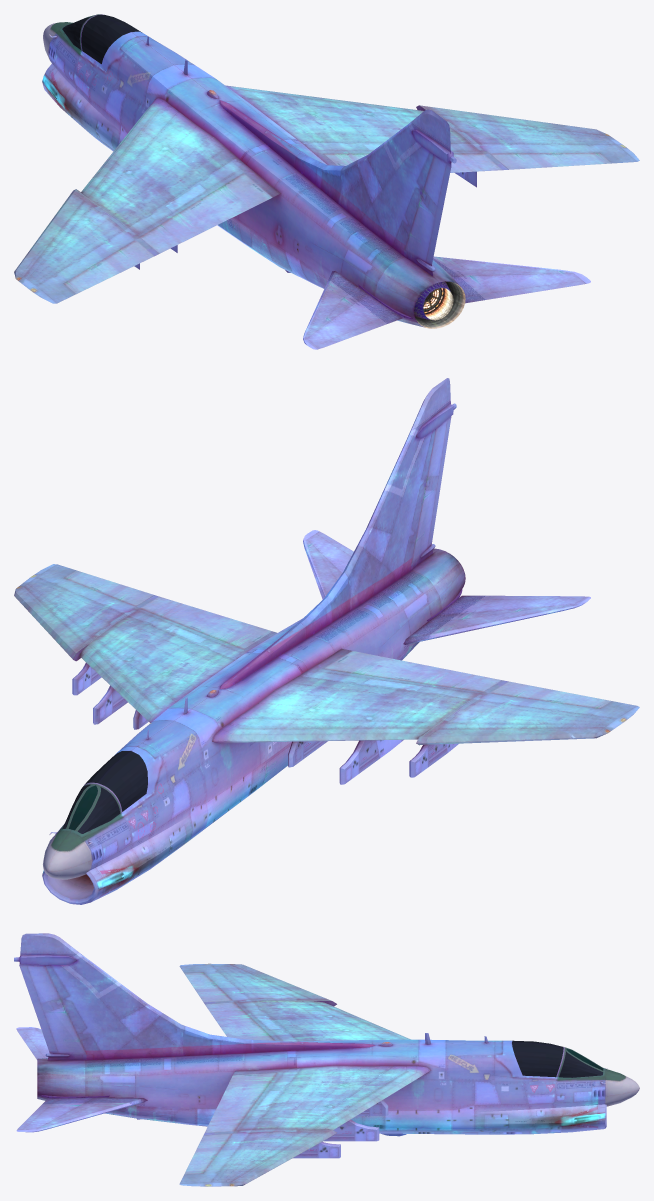
3 renders of one model, top to bottom at view 1: azimuth 30°, elevation 25°; view 2: azimuth 150°, elevation 25°; view 3: azimuth 270°, elevation 25°, orthographic. The views are drawn at different scales.
Parts seen in each view (by area): view 1: A-7_LOD0_default, A-7_ElevatorL01_default, A-7_ElevatorR01_default, A-7_FlapL01_default, A-7_RudderL01_default, A-7_AileronL01_default, A-7_AileronR01_default, A-7_Glass_Canopy01_default, A-7_VoletL01_default, A-7_EngineL01_default, A-7_FlapR01_default, A-7_VoletR01_default (+3 smaller); view 2: A-7_LOD0_default, A-7_ElevatorL01_default, A-7_FlapL01_default, A-7_FlapR01_default, A-7_VoletL02_default, A-7_VoletL01_default, A-7_RudderL01_default, A-7_Glass_Canopy01_default, A-7_ElevatorR01_default, A-7_Glass_default, A-7_VoletR02_default, A-7_AileronL01_default (+3 smaller); view 3: A-7_LOD0_default, A-7_RudderL01_default, A-7_ElevatorR01_default, A-7_FlapR01_default, A-7_Glass_Canopy01_default, A-7_FlapL01_default, A-7_VoletR02_default, A-7_VoletR01_default, A-7_AileronR01_default, A-7_Glass_default, A-7_AileronL01_default, A-7_Canopy01_default (+2 smaller).
Part boxes in pixels (bbox=[...]): A-7_LOD0_default: bbox=[14, 14, 639, 328]; A-7_ElevatorL01_default: bbox=[303, 271, 402, 349]; A-7_ElevatorR01_default: bbox=[433, 256, 590, 303]; A-7_FlapL01_default: bbox=[140, 173, 272, 253]; A-7_RudderL01_default: bbox=[405, 154, 451, 265]; A-7_AileronL01_default: bbox=[63, 240, 154, 294]; A-7_AileronR01_default: bbox=[490, 152, 611, 169]; A-7_Glass_Canopy01_default: bbox=[81, 15, 141, 63]; A-7_VoletL01_default: bbox=[14, 193, 83, 276]; A-7_EngineL01_default: bbox=[414, 281, 453, 320]; A-7_FlapR01_default: bbox=[324, 153, 501, 172]; A-7_VoletR01_default: bbox=[428, 106, 603, 135]; A-7_LOD0_default: bbox=[14, 378, 639, 904]; A-7_ElevatorL01_default: bbox=[403, 595, 590, 644]; A-7_FlapL01_default: bbox=[324, 651, 501, 692]; A-7_FlapR01_default: bbox=[140, 596, 271, 649]; A-7_VoletL02_default: bbox=[229, 728, 430, 742]; A-7_VoletL01_default: bbox=[425, 728, 603, 744]; A-7_RudderL01_default: bbox=[411, 417, 451, 562]; A-7_Glass_Canopy01_default: bbox=[85, 751, 147, 811]; A-7_ElevatorR01_default: bbox=[303, 530, 353, 599]; A-7_Glass_default: bbox=[62, 784, 119, 833]; A-7_VoletR02_default: bbox=[79, 645, 157, 721]; A-7_AileronL01_default: bbox=[490, 681, 611, 708]; A-7_LOD0_default: bbox=[14, 933, 639, 1186]; A-7_RudderL01_default: bbox=[19, 965, 85, 1054]; A-7_ElevatorR01_default: bbox=[16, 1097, 147, 1132]; A-7_FlapR01_default: bbox=[205, 1073, 276, 1132]; A-7_Glass_Canopy01_default: bbox=[512, 1040, 563, 1077]; A-7_FlapL01_default: bbox=[205, 1002, 274, 1040]; A-7_VoletR02_default: bbox=[314, 1071, 422, 1129]; A-7_VoletR01_default: bbox=[231, 1132, 332, 1183]; A-7_AileronR01_default: bbox=[184, 1133, 232, 1174]; A-7_Glass_default: bbox=[559, 1047, 603, 1077]; A-7_AileronL01_default: bbox=[184, 972, 232, 1002]; A-7_Canopy01_default: bbox=[496, 1040, 564, 1079].
Size of the model in its own units: 11.64 by 4.91 by 13.82.
Materials: 4 (4 with a texture image).
